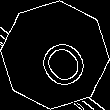O_NW: (22, 21, 88, 89)
